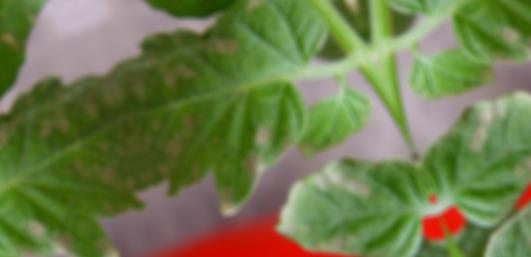Tomato mold leaf: (90, 0, 374, 237), (254, 131, 451, 257), (196, 209, 466, 257), (68, 0, 270, 60)
